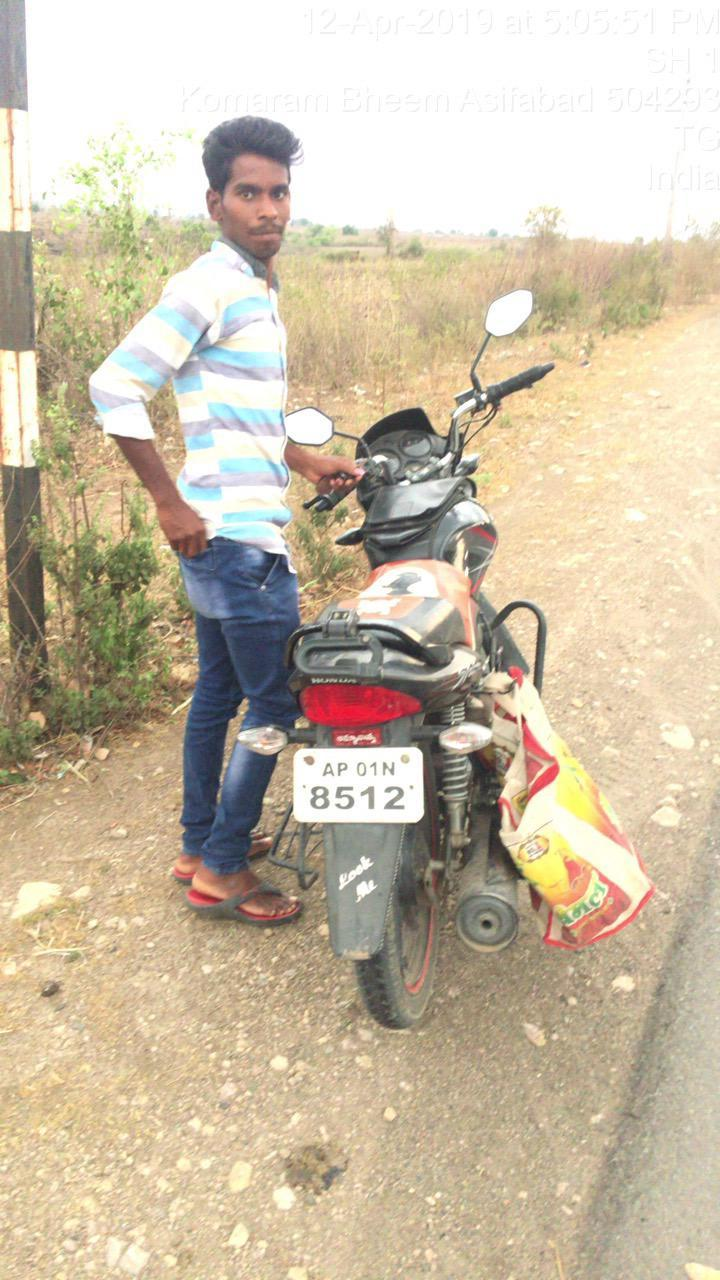plate: (282, 740, 435, 826)
